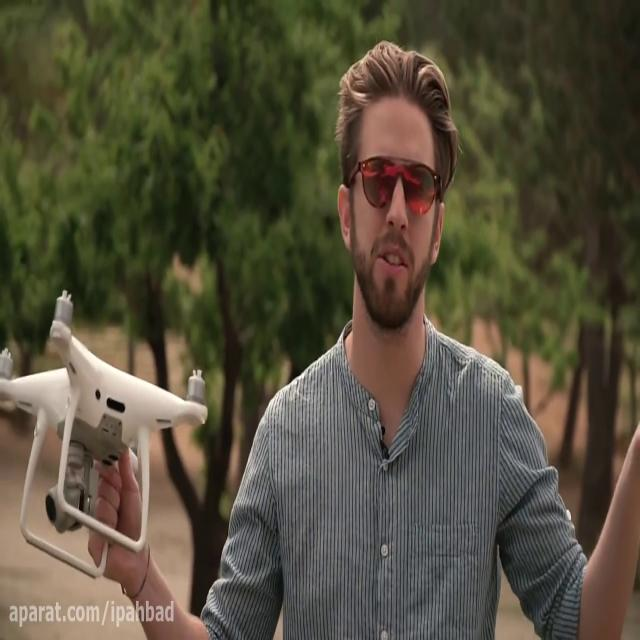drone: (0, 285, 210, 578)
